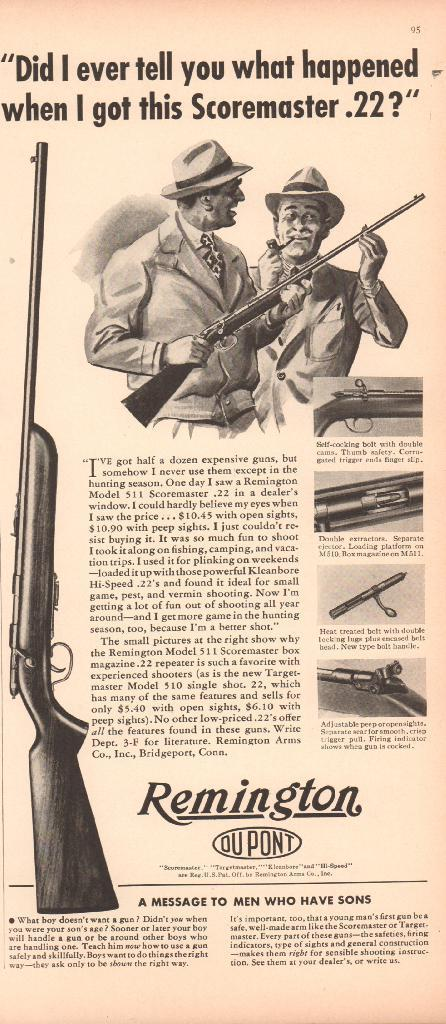Rifle: (0, 138, 126, 930), (120, 193, 413, 423)
